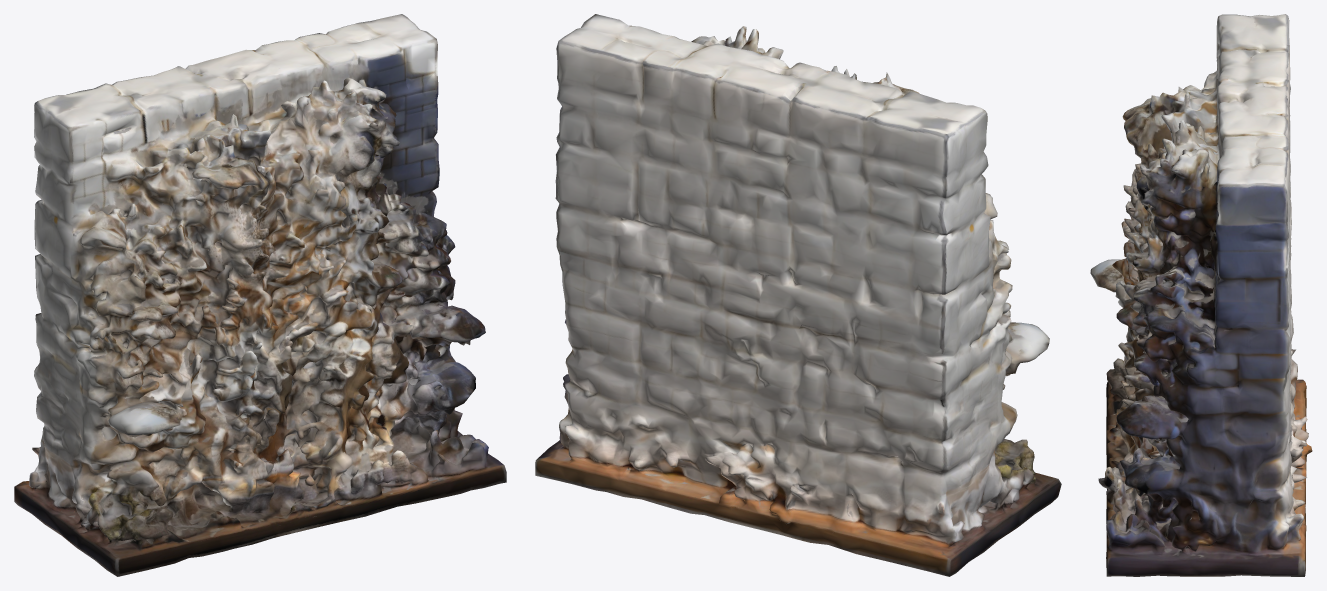
The model's file is Growth_Within_Blocks_0812044715.glb.
The picture shows the model from 3 angles, left to right: view 1: azimuth 30°, elevation 25°; view 2: azimuth 150°, elevation 25°; view 3: azimuth 270°, elevation 25°; orthographic projection. The views are drawn at different scales.
Size of the model in its own units: 1.99 by 1.98 by 1.02.
Materials: 1 (1 with a texture image).
